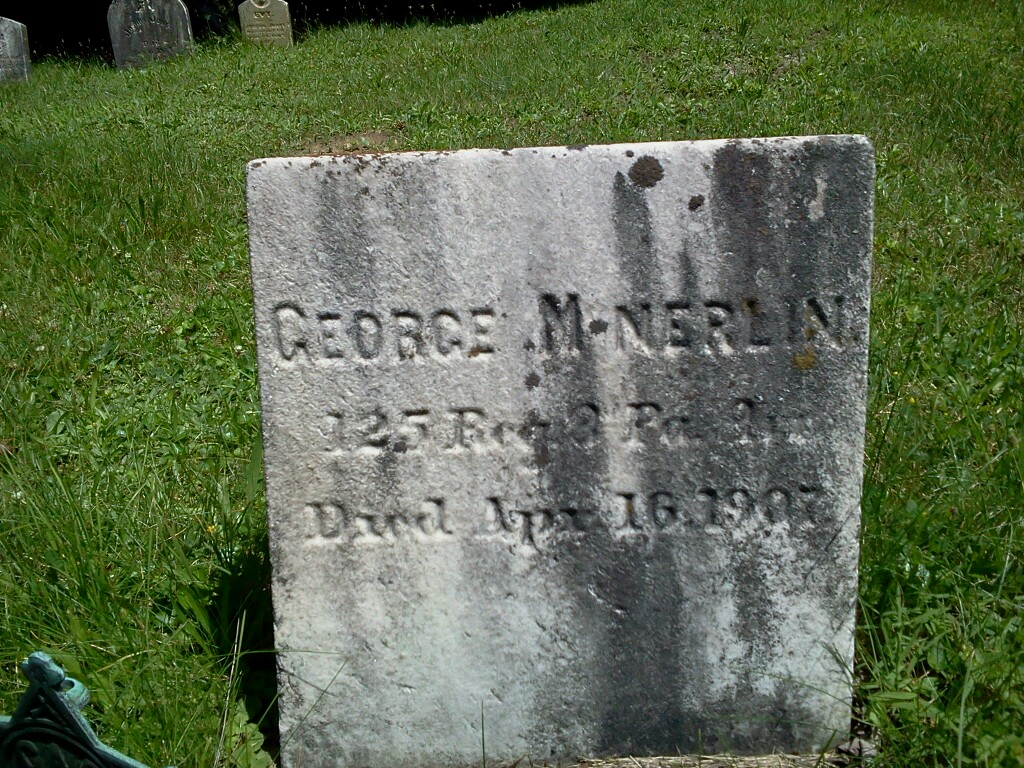upright: (245, 127, 877, 763)
